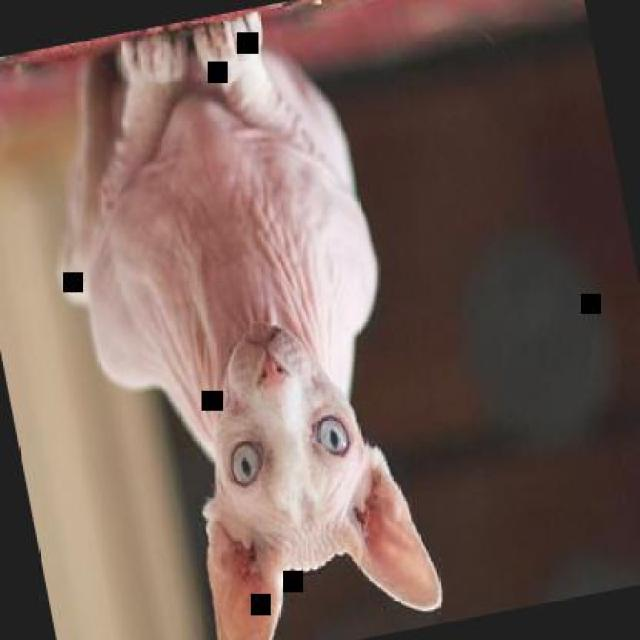cat: (15, 0, 450, 638)
